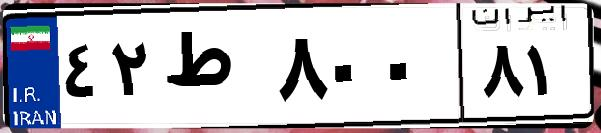0: (385, 28, 445, 110), (330, 28, 385, 110)
1: (525, 38, 570, 115)
2: (110, 28, 158, 98)
4: (57, 26, 110, 100)
8: (270, 28, 330, 110), (475, 38, 525, 113)
ط: (158, 20, 270, 120)
